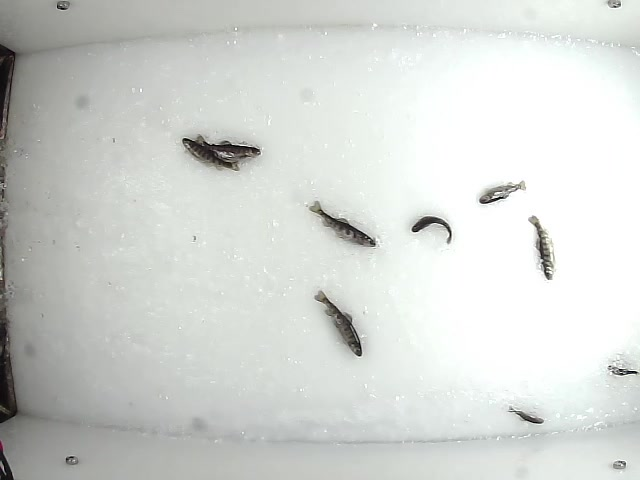fish: (312, 288, 364, 358), (307, 200, 381, 249), (194, 129, 261, 163), (180, 137, 241, 174), (527, 213, 556, 281), (476, 176, 528, 207), (410, 215, 453, 247)
